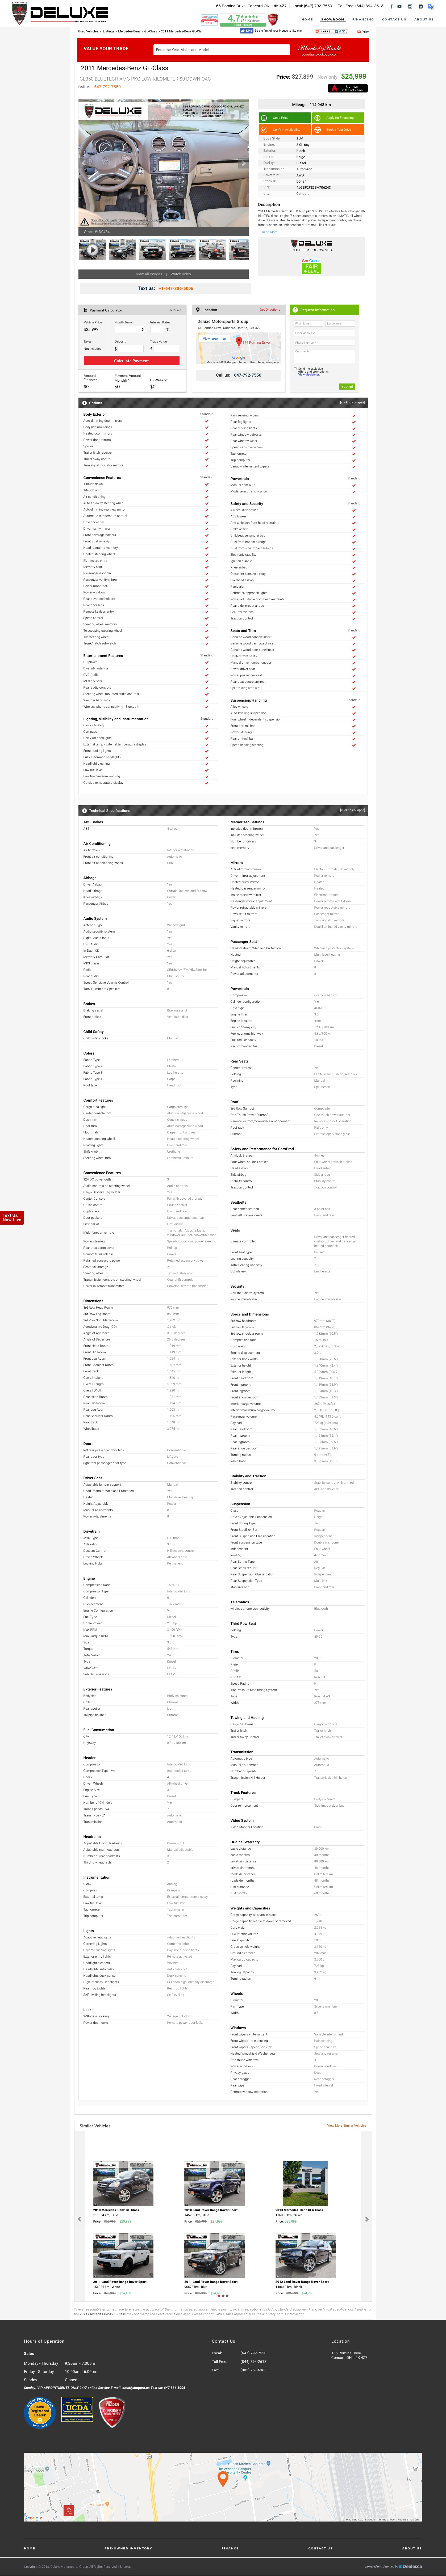car: (237, 158, 250, 169)
